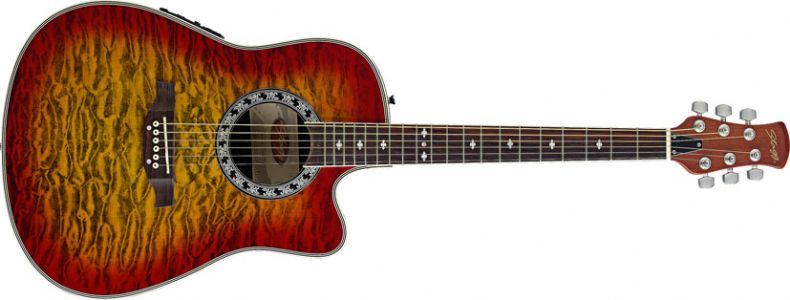guitar: (1, 4, 788, 298)
